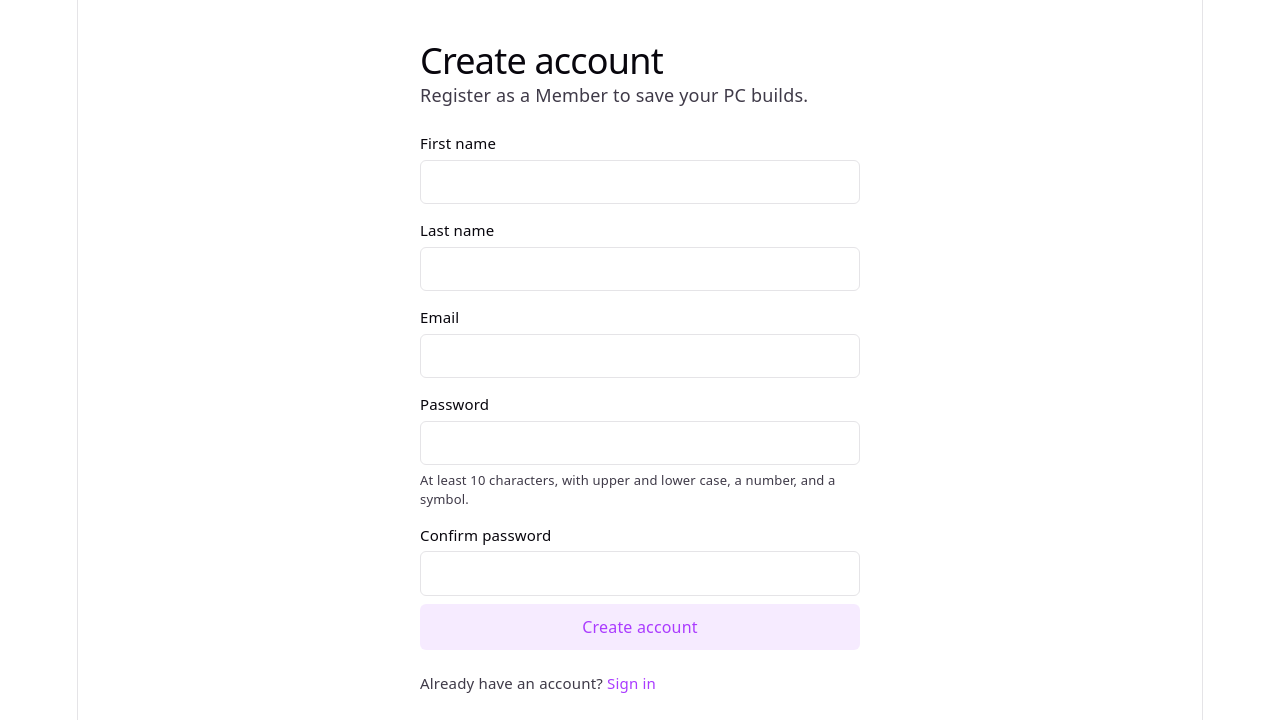
Test case: RegisterPage › shows API errors from register
The width and height of the screenshot is (1280, 720).
Type "Ann" into the field labelled "First name" at (640, 182), box [420,160,860,204]
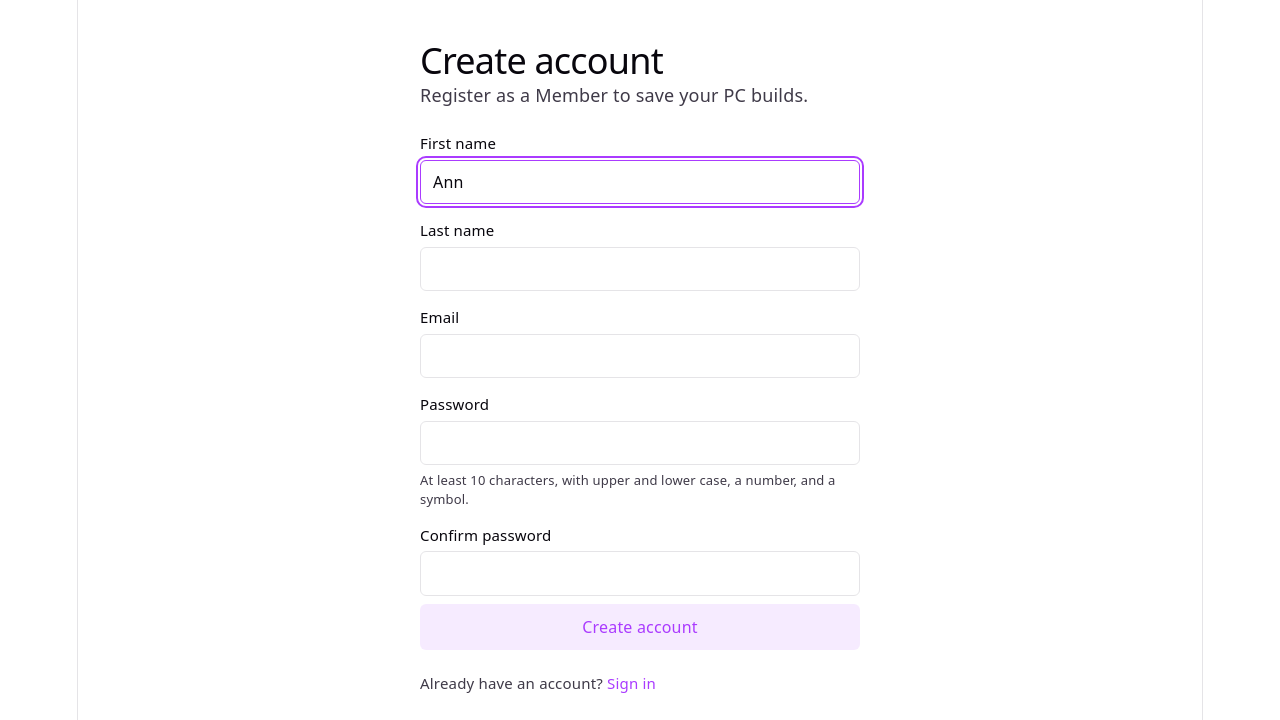
Type "Builder" into the field labelled "Last name" at (640, 269), box [420,247,860,291]
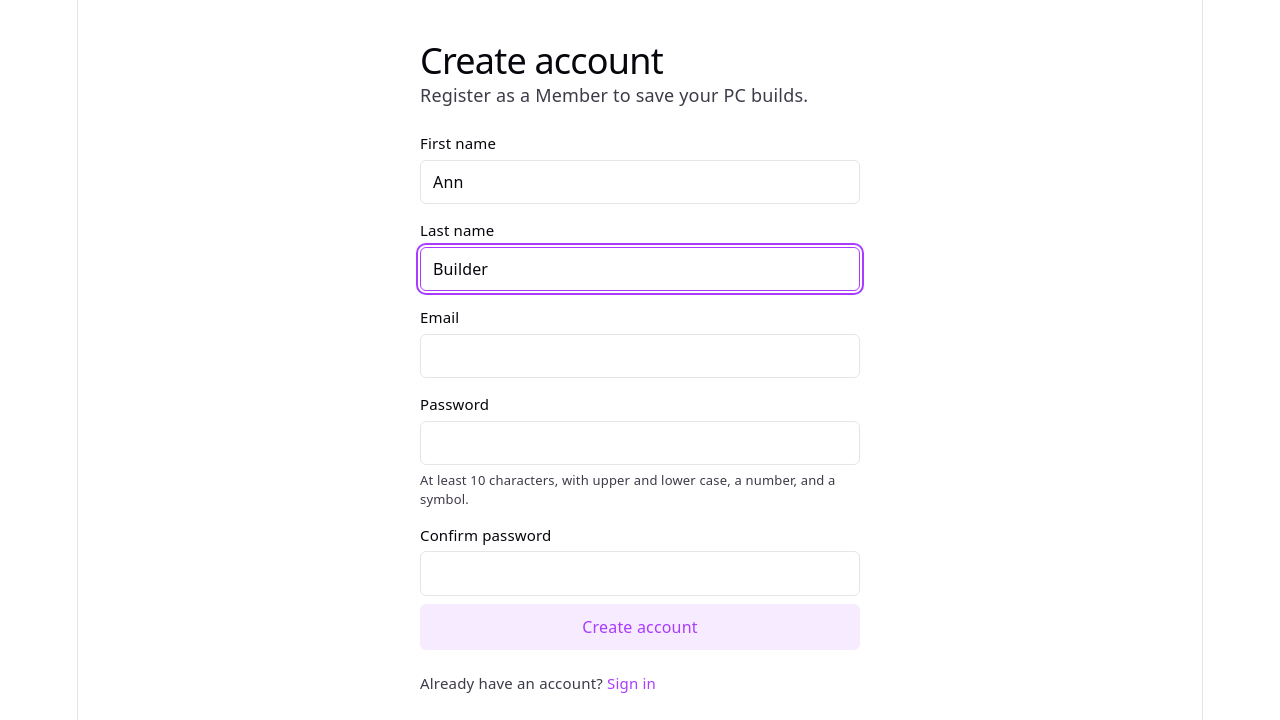
Type "ann@example.com" into the field labelled "Email" at (640, 356), box [420,334,860,378]
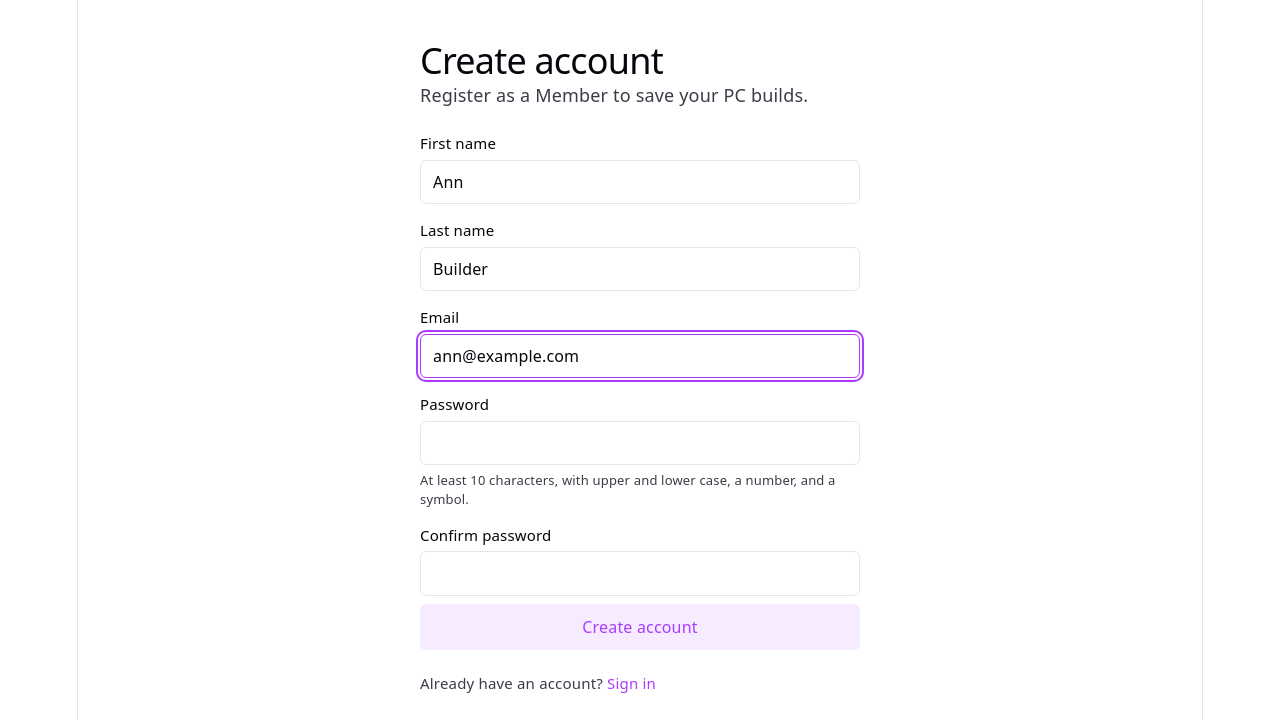
Type "Password1!" into the password field labelled "Password" at (640, 443), box [420,421,860,465]
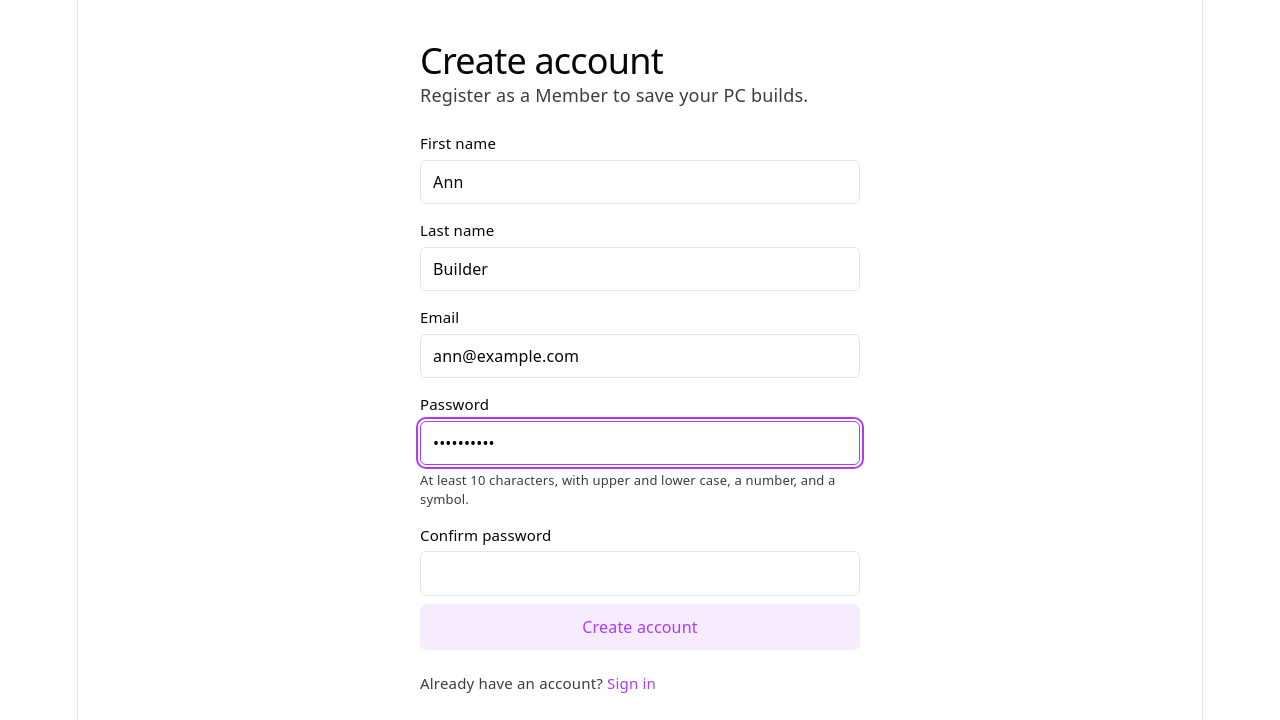
Type "Password1!" into the password field labelled "Confirm password" at (640, 574), box [420,552,860,596]
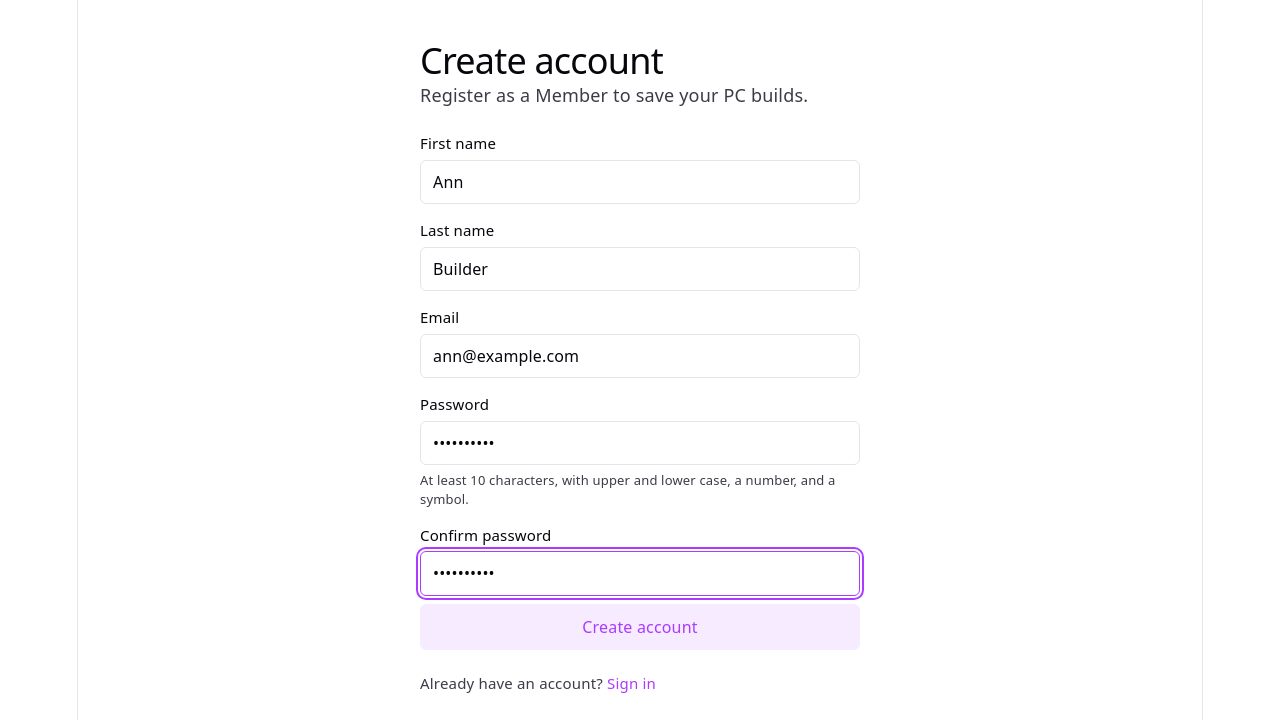
Click the button "Create account" at (640, 627), box [420,604,860,650]
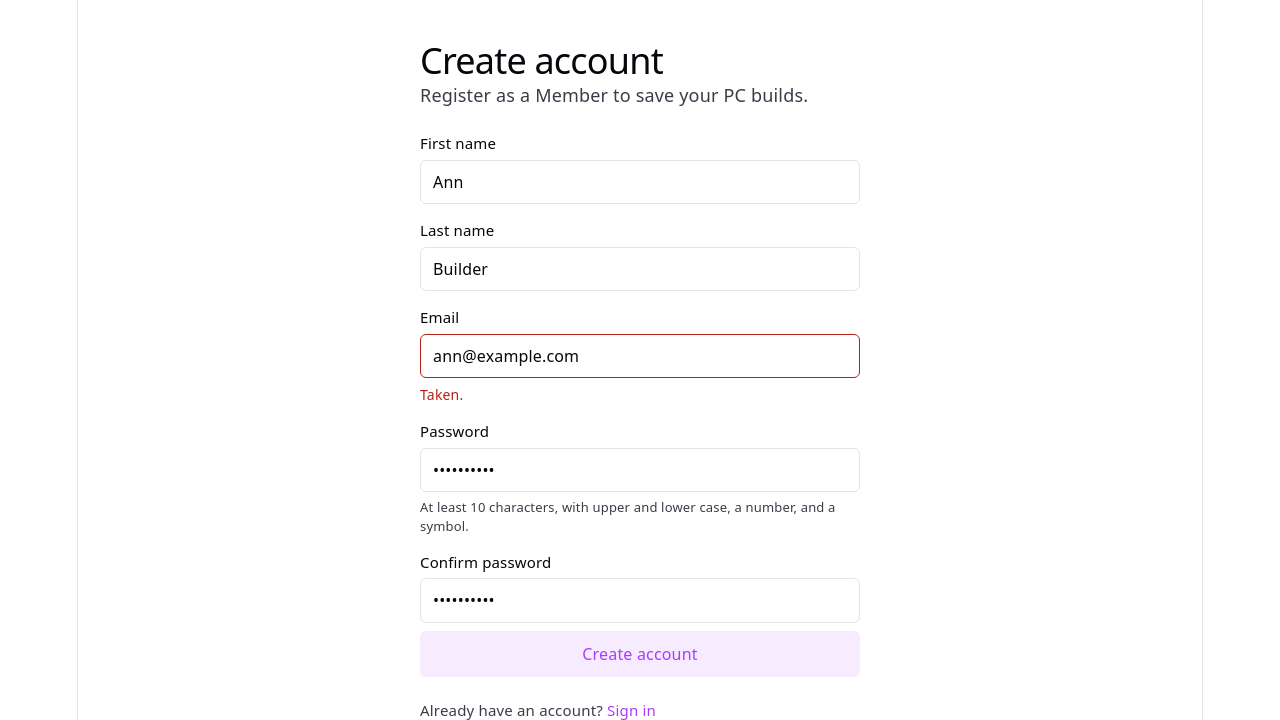
Expected: the text "Taken." is shown, [420,385,463,404]
